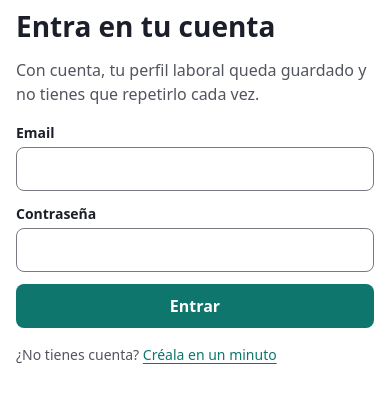
Test: LoginView › enseña el detail RFC 7807 cuando el backend rechaza las credenciales
Type "ana@example.com" into the field labelled "Email" at (195, 169), box [16,147,374,191]
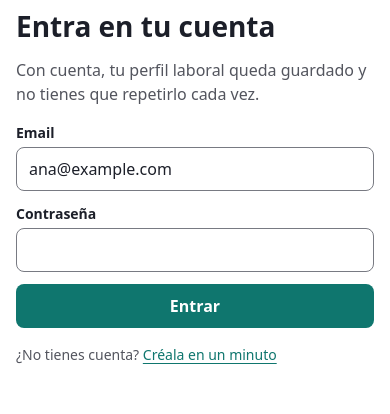
Type "malaclave123" into the password field labelled "Contraseña" at (195, 250), box [16,228,374,272]
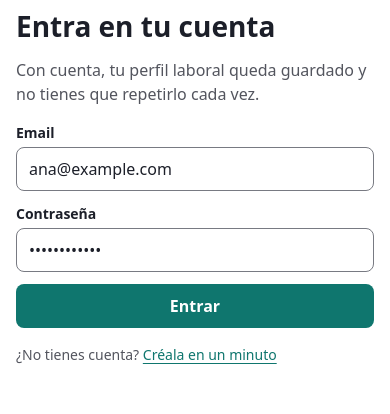
Submit the form, box [16,122,374,328]
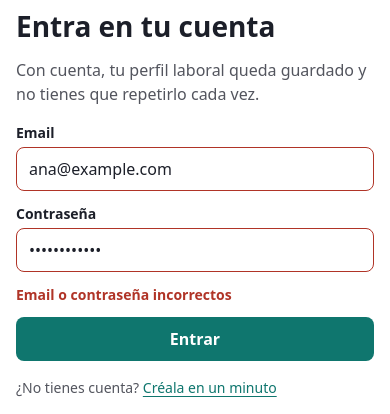
Expected: the message "Email o contraseña incorrectos" is shown, [16,285,232,304]
